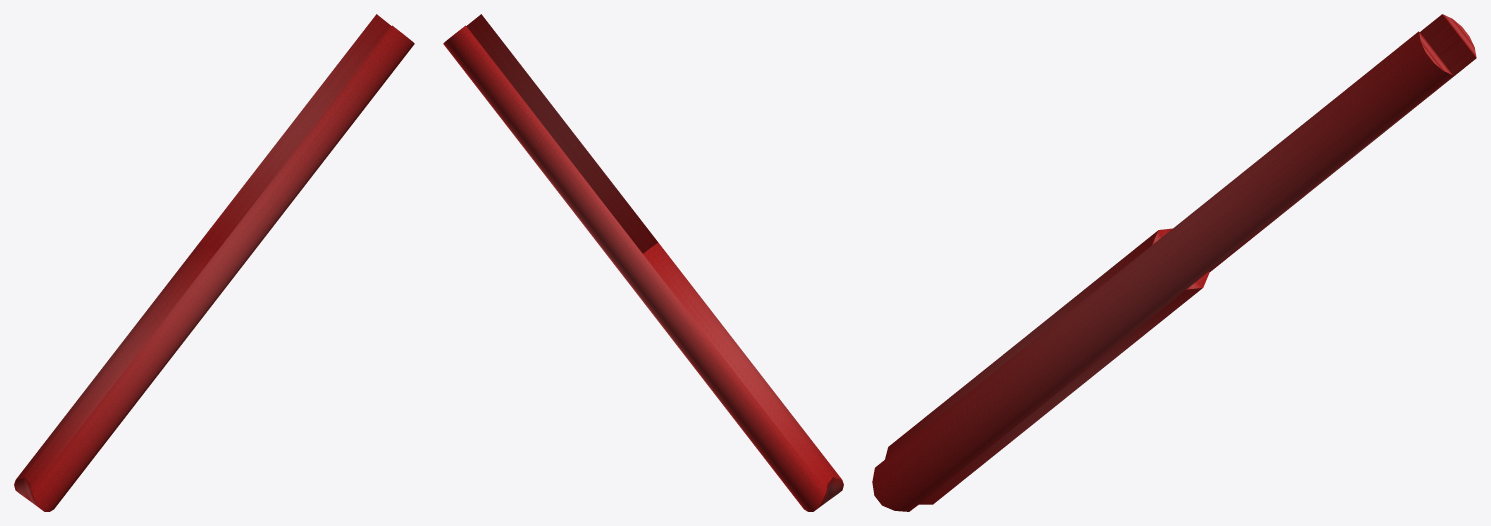
Rendered from zaagHouvast.obj.
The picture shows the model from 3 angles, left to right: view 1: azimuth 30°, elevation 25°; view 2: azimuth 150°, elevation 25°; view 3: azimuth 330°, elevation 25°; orthographic projection. The views are drawn at different scales.
Parts seen in each view (by area): view 1: zaagHouvast polySurface3; view 2: zaagHouvast polySurface3; view 3: zaagHouvast polySurface3.
Boxes of the visible parts, <box> form: zaagHouvast polySurface3: <box>14,14,414,511</box>; zaagHouvast polySurface3: <box>443,14,843,511</box>; zaagHouvast polySurface3: <box>872,14,1476,511</box>.
Size of the model in its own units: 1.83 by 1.83 by 0.197.
Materials: 1 (1 with a texture image).
